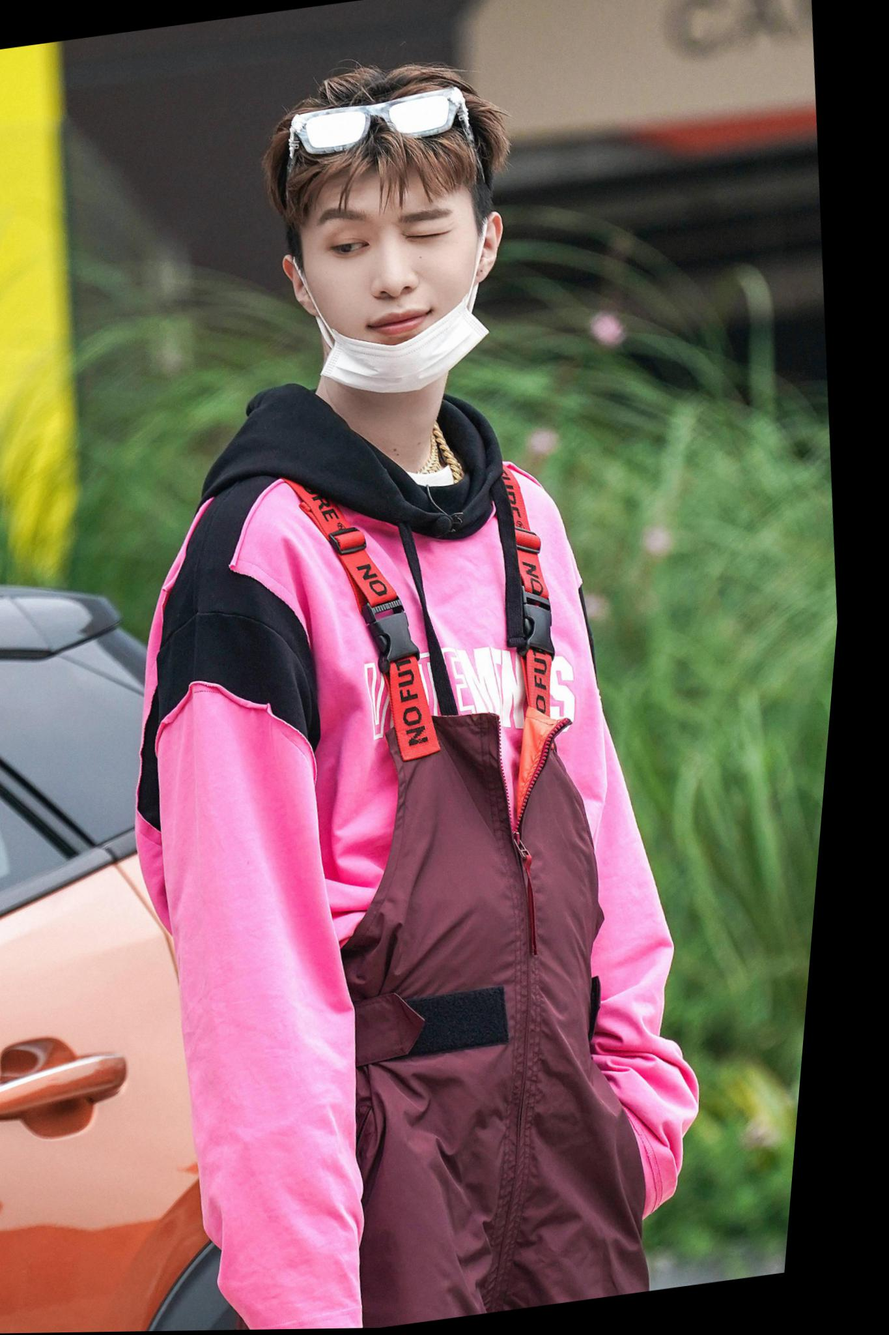WRONG: (292, 168, 500, 400)
